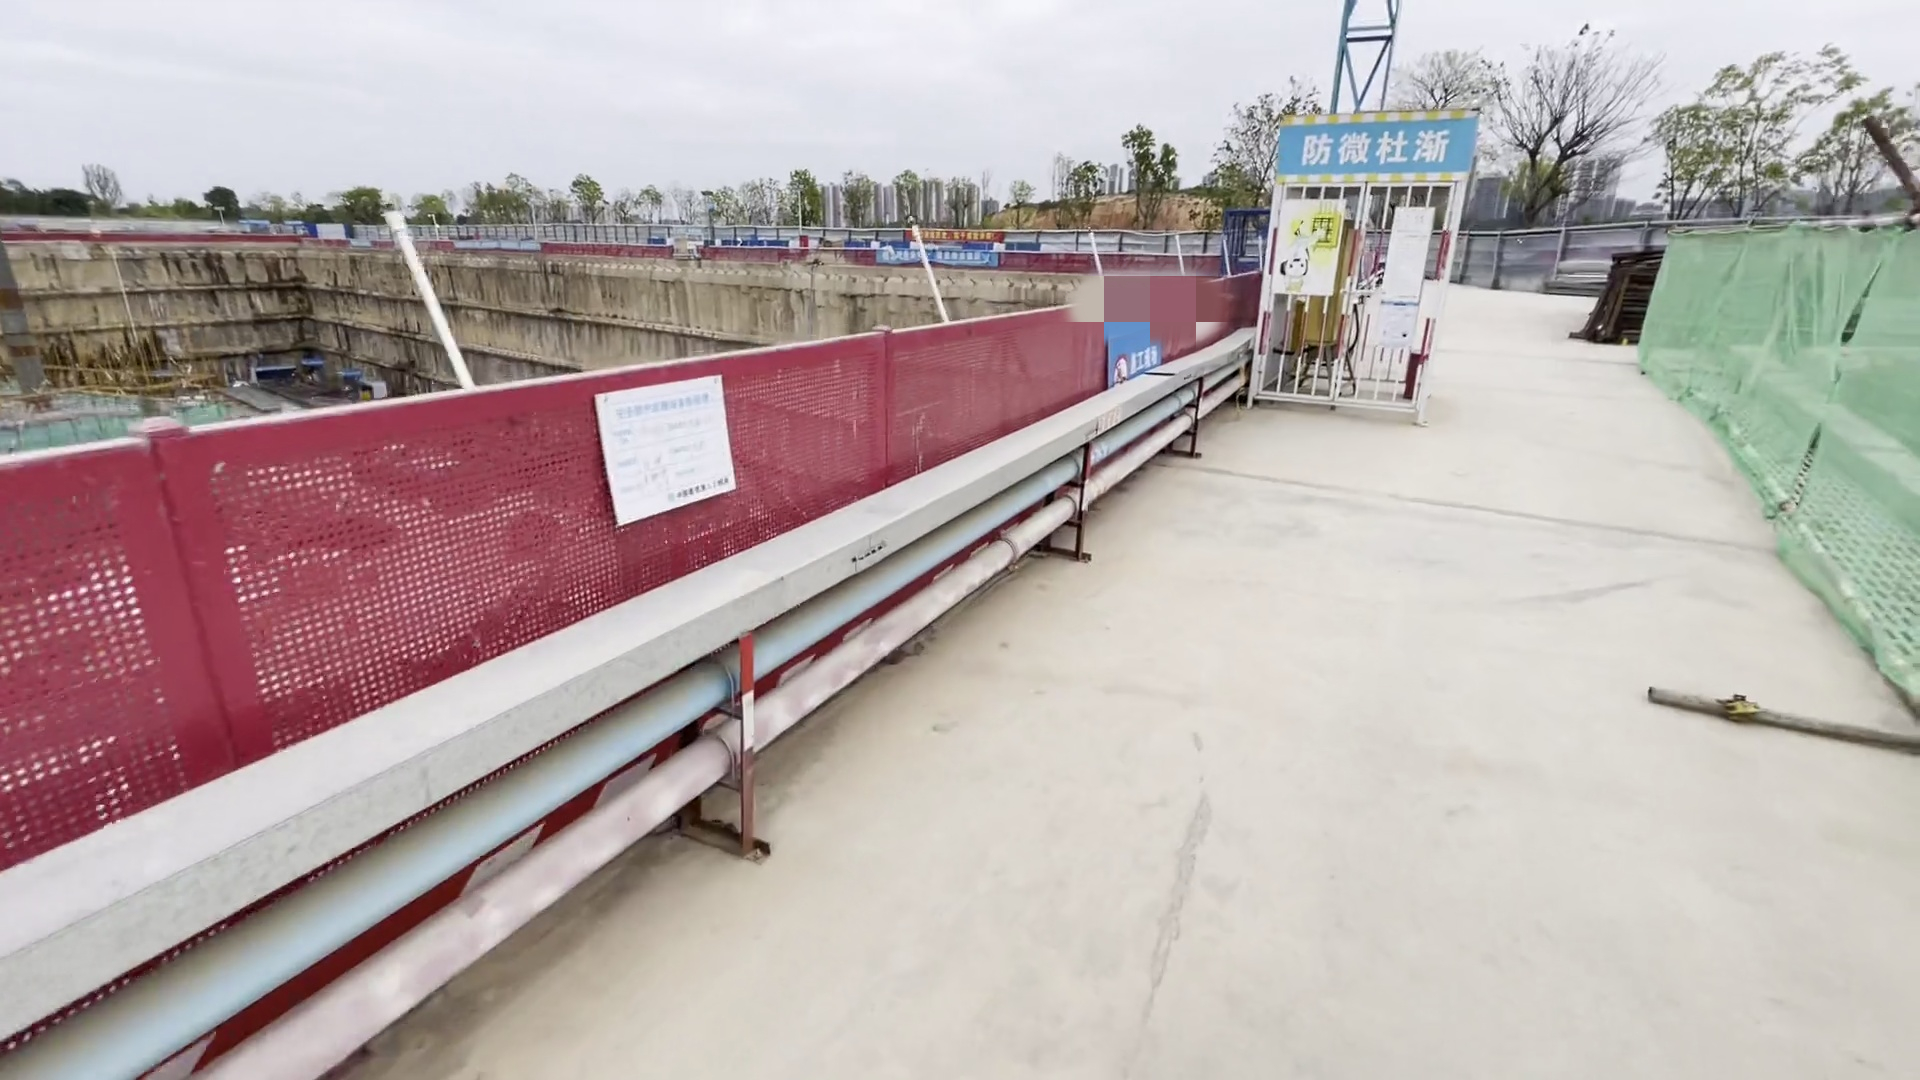fence: (1, 274, 1253, 873)
slogan: (1298, 124, 1458, 178), (902, 225, 1000, 270)
